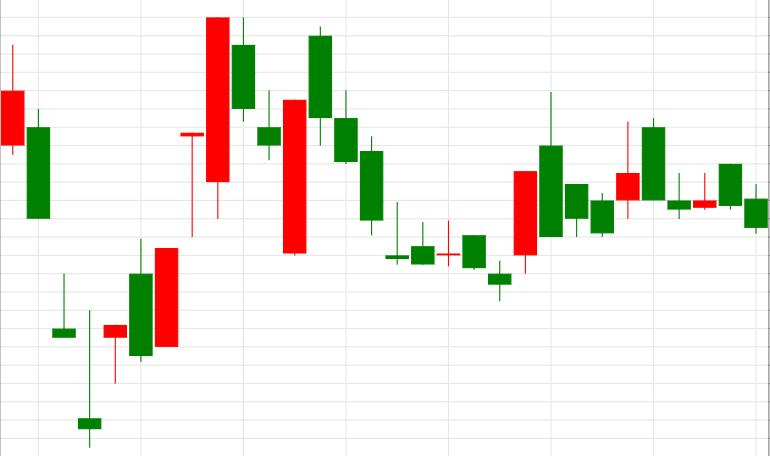morning_star_rise: (309, 26, 538, 302)
